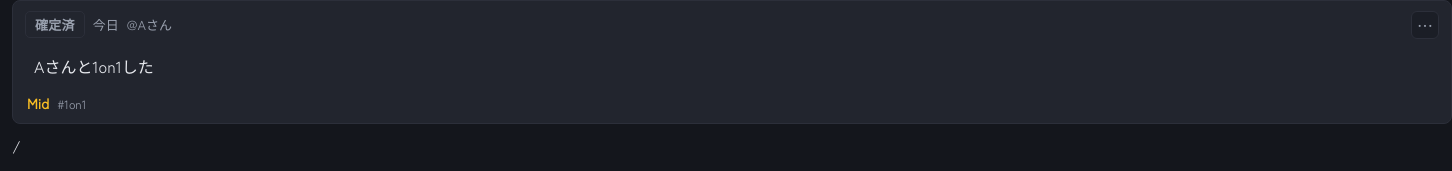
Test case: JournalEntryCard（表示モード） › 相談があるときは「分析する」を出さず、⋯メニューに「相談を開く」を置く
The width and height of the screenshot is (1452, 171).
Click the button named "その他の操作": (1425,25) [1411,11,1439,39]
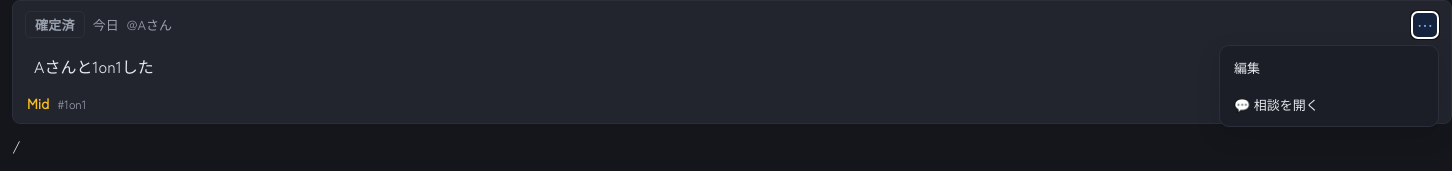
Expected: the menu item "💬 相談を開く" is shown, [1224,87,1434,122]
